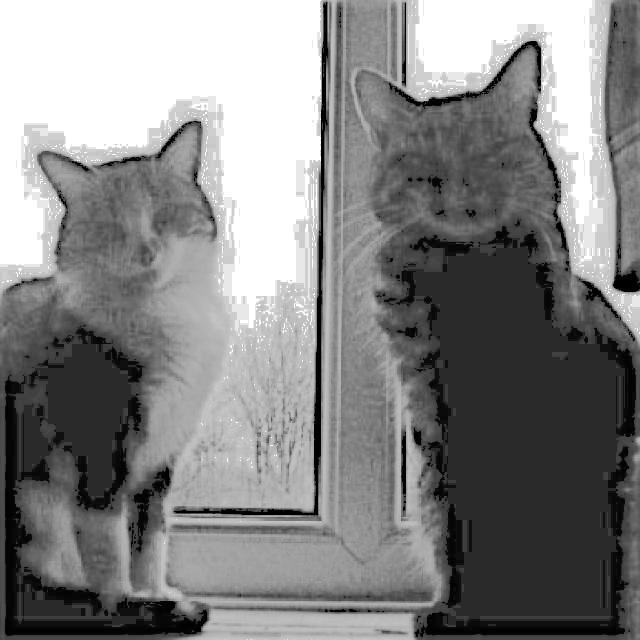Cat: (334, 33, 640, 639), (0, 114, 234, 613)
